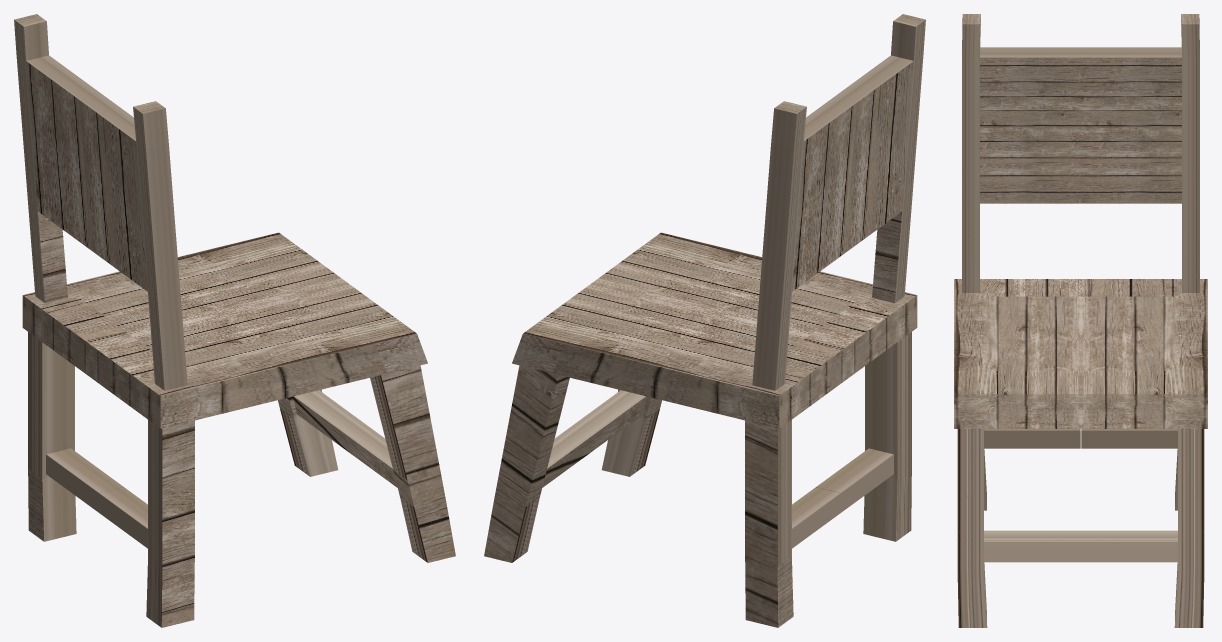
Rendered from Silla.obj.
3 renders of one model, left to right at view 1: azimuth 30°, elevation 25°; view 2: azimuth 150°, elevation 25°; view 3: azimuth 270°, elevation 25°, orthographic. The views are drawn at different scales.
Visible parts, largest first — view 1: Silla; view 2: Silla; view 3: Silla.
Boxes of the visible parts, x1,y1,x2,y2 form: Silla: (14,14,455,627); Silla: (484,14,925,627); Silla: (954,14,1207,627).
Bounding box in the file's own units: 1.31 × 2.08 × 1.01.
1 material, 1 textured.
